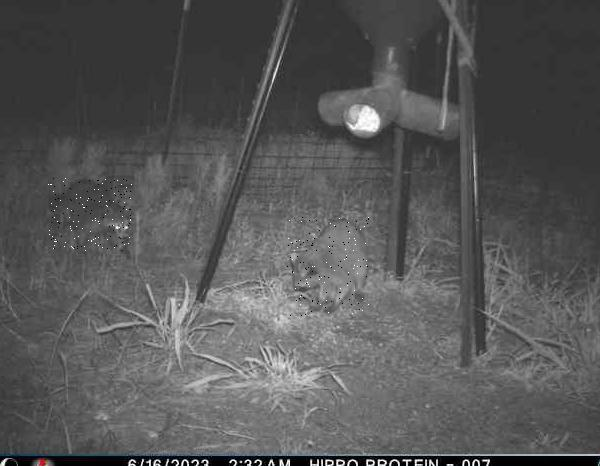Raccoon: (288, 217, 371, 316), (49, 178, 133, 251)
